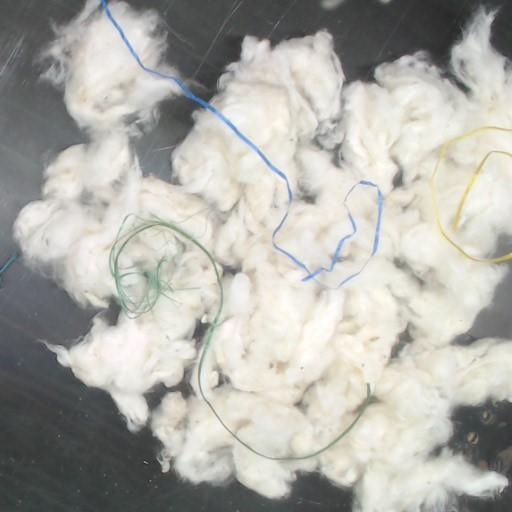cotton: (14, 3, 511, 511)
thread: (100, 0, 383, 287), (109, 213, 371, 461), (432, 126, 511, 264), (453, 150, 511, 228)
